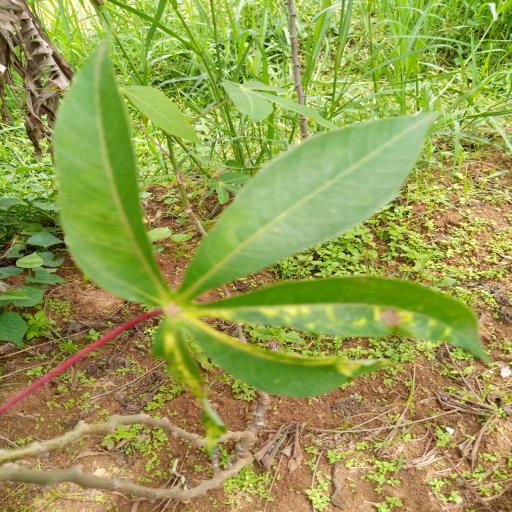Cassava_Mosaic: (48, 44, 486, 442)
